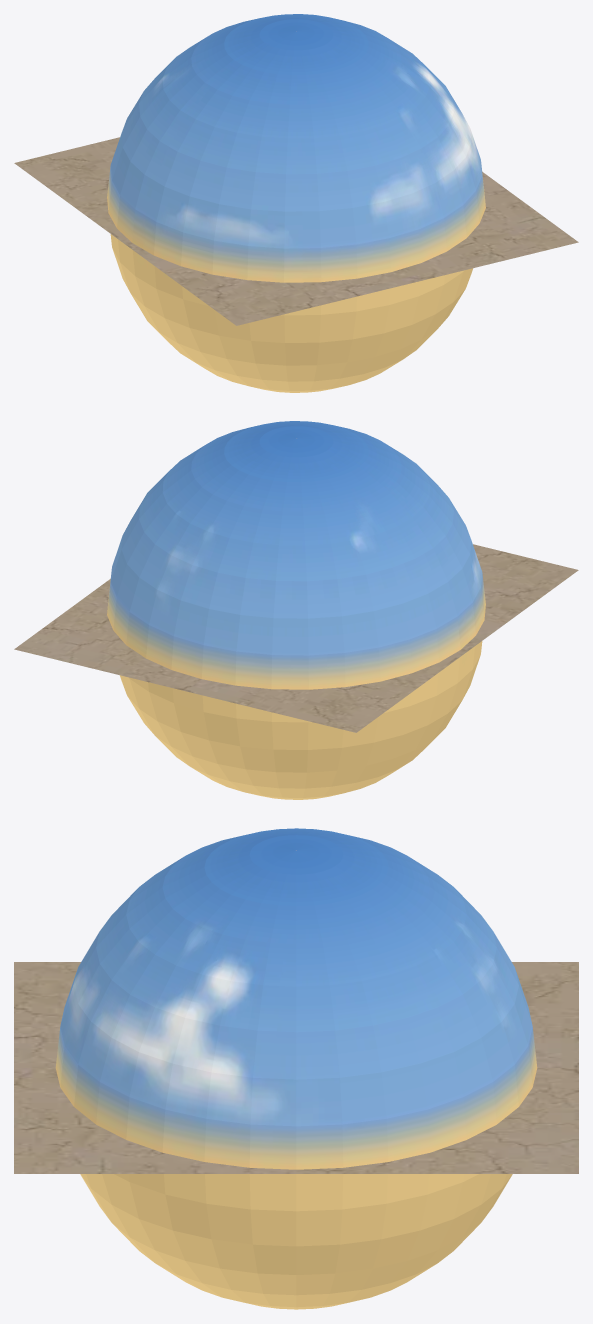
File: djenne-ar.glb
The picture shows the model from 3 angles, top to bottom: view 1: azimuth 30°, elevation 25°; view 2: azimuth 150°, elevation 25°; view 3: azimuth 270°, elevation 25°; orthographic projection. The views are drawn at different scales.
Visible parts, largest first — view 1: WEB_Sky, land; view 2: WEB_Sky, land; view 3: WEB_Sky, land.
Part boxes in pixels (bbox=[...]): WEB_Sky: bbox=[107, 14, 485, 392]; land: bbox=[14, 137, 578, 325]; WEB_Sky: bbox=[107, 421, 485, 799]; land: bbox=[14, 544, 578, 732]; WEB_Sky: bbox=[55, 828, 537, 1309]; land: bbox=[14, 962, 578, 1173].
Size of the model in its own units: 740 by 711 by 833.
Materials: 12 (6 with a texture image).
